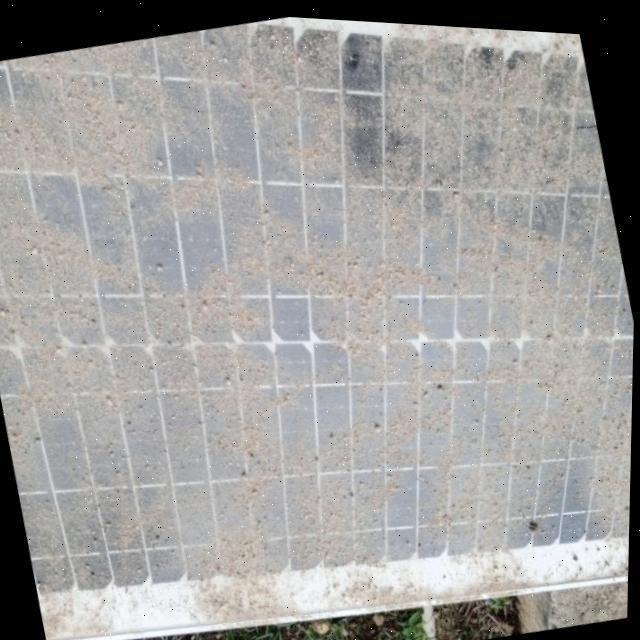Surface Contaminant: (0, 37, 635, 600)
